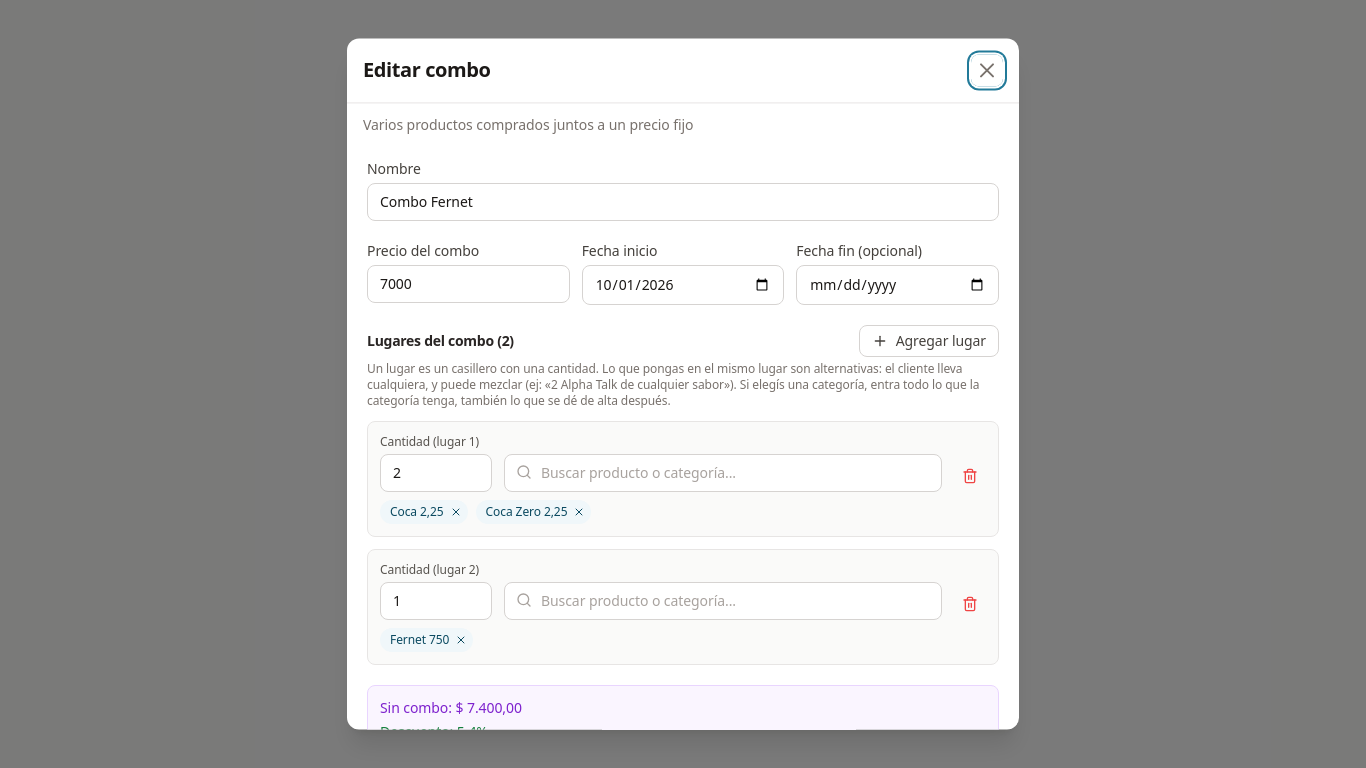
Scenario: ModalCombo · vista previa › se recalcula al cambiar la cantidad de un lugar
The image size is (1366, 768).
Replace the text in the field labelled "Cantidad (lugar 2)" with "3": (436, 601) [380,582,492,620]
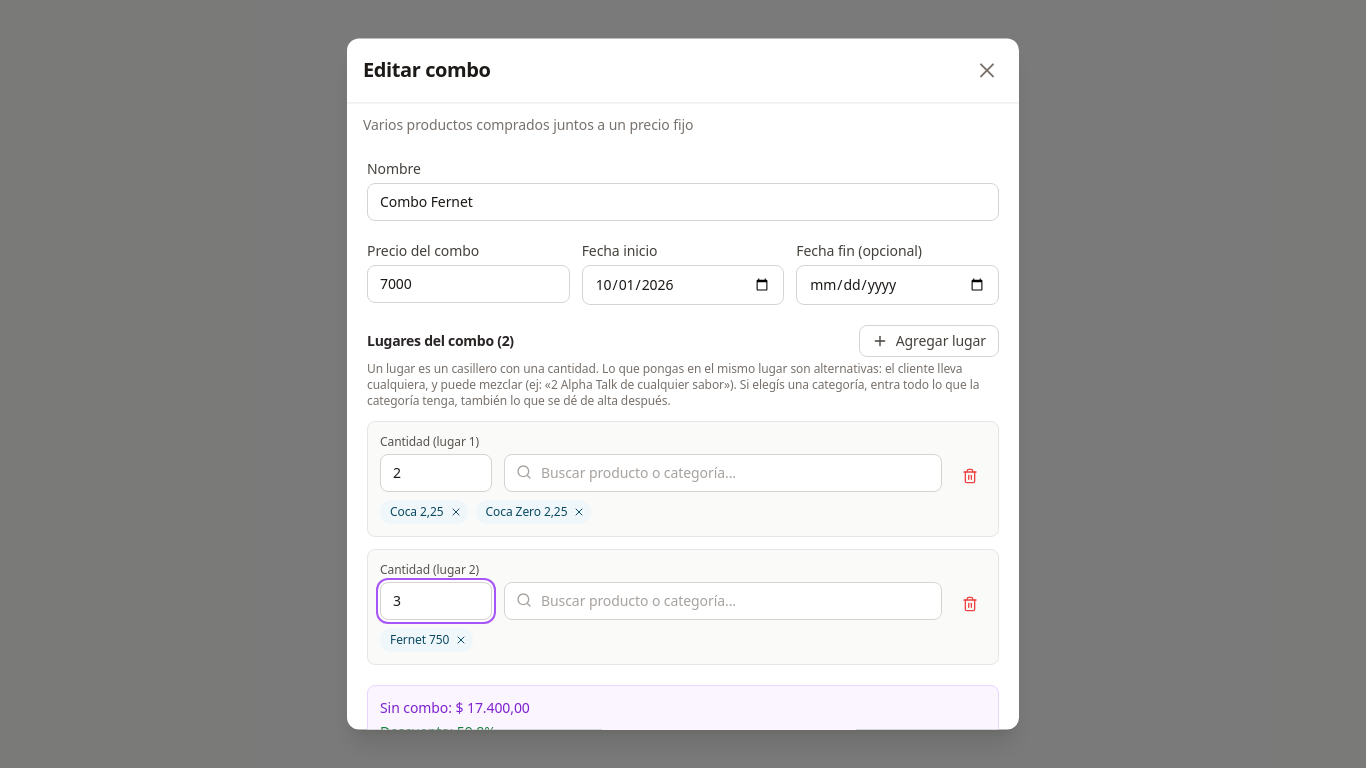
Expected: the text with test id "combo-sin-combo" reads "Sin combo: $ 17.400,00", [456,698,530,717]
